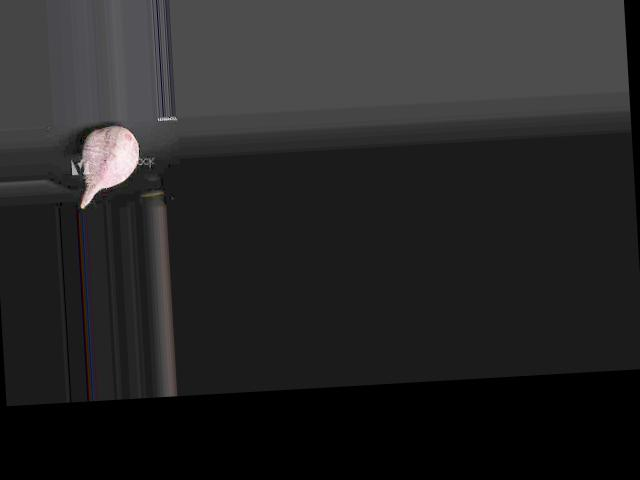beet: (77, 124, 142, 208)
